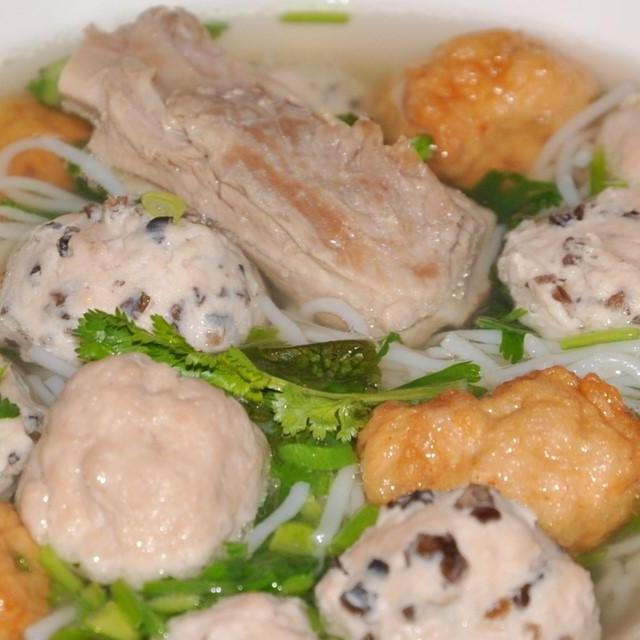bun: (253, 278, 640, 438), (0, 115, 135, 318)
bun moc: (0, 0, 640, 640)
thit heo: (53, 0, 509, 355)
vien moc: (0, 189, 286, 386), (308, 465, 612, 640), (487, 170, 640, 366), (0, 284, 58, 518)
